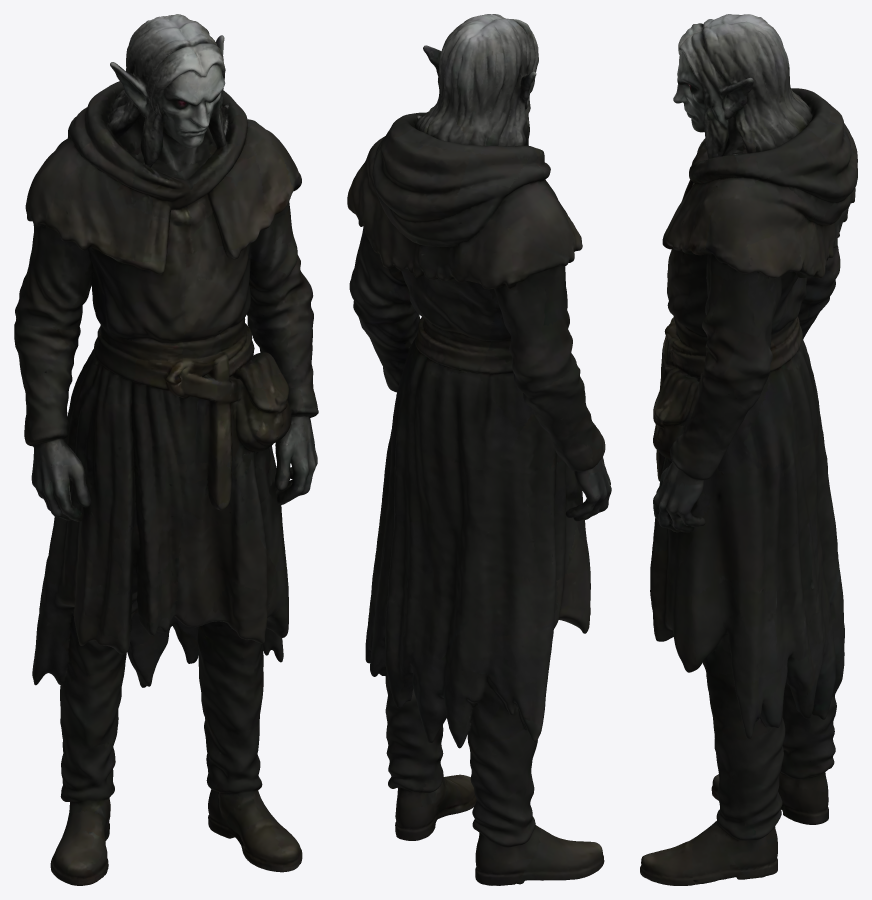
Rendered from darkelf1.glb.
3 views of the same model, side by side, from view 1: azimuth 30°, elevation 25°; view 2: azimuth 150°, elevation 25°; view 3: azimuth 270°, elevation 25° (orthographic).
Size of the model in its own units: 0.6324 by 1.9 by 0.4573.
1 material, 1 textured.
